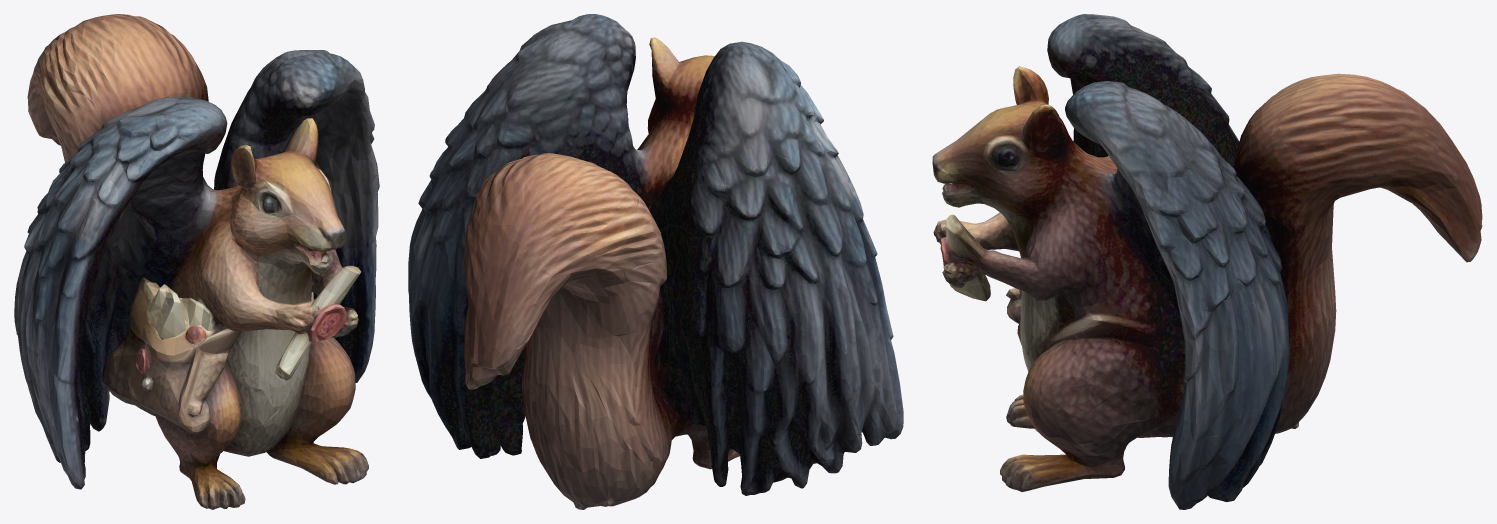
Rendered from quillshade.glb.
3 views of the same model, side by side, from view 1: azimuth 30°, elevation 25°; view 2: azimuth 150°, elevation 25°; view 3: azimuth 270°, elevation 25° (orthographic). The views are drawn at different scales.
Parts seen in each view (by area): view 1: world; view 2: world; view 3: world.
Part boxes in pixels (x1,y1,x2,y2): world: (14,14,379,509); world: (408,14,903,509); world: (932,14,1482,509).
Size of the model in its own units: 0.8331 by 0.8033 by 0.9992.
1 material, 1 textured.
